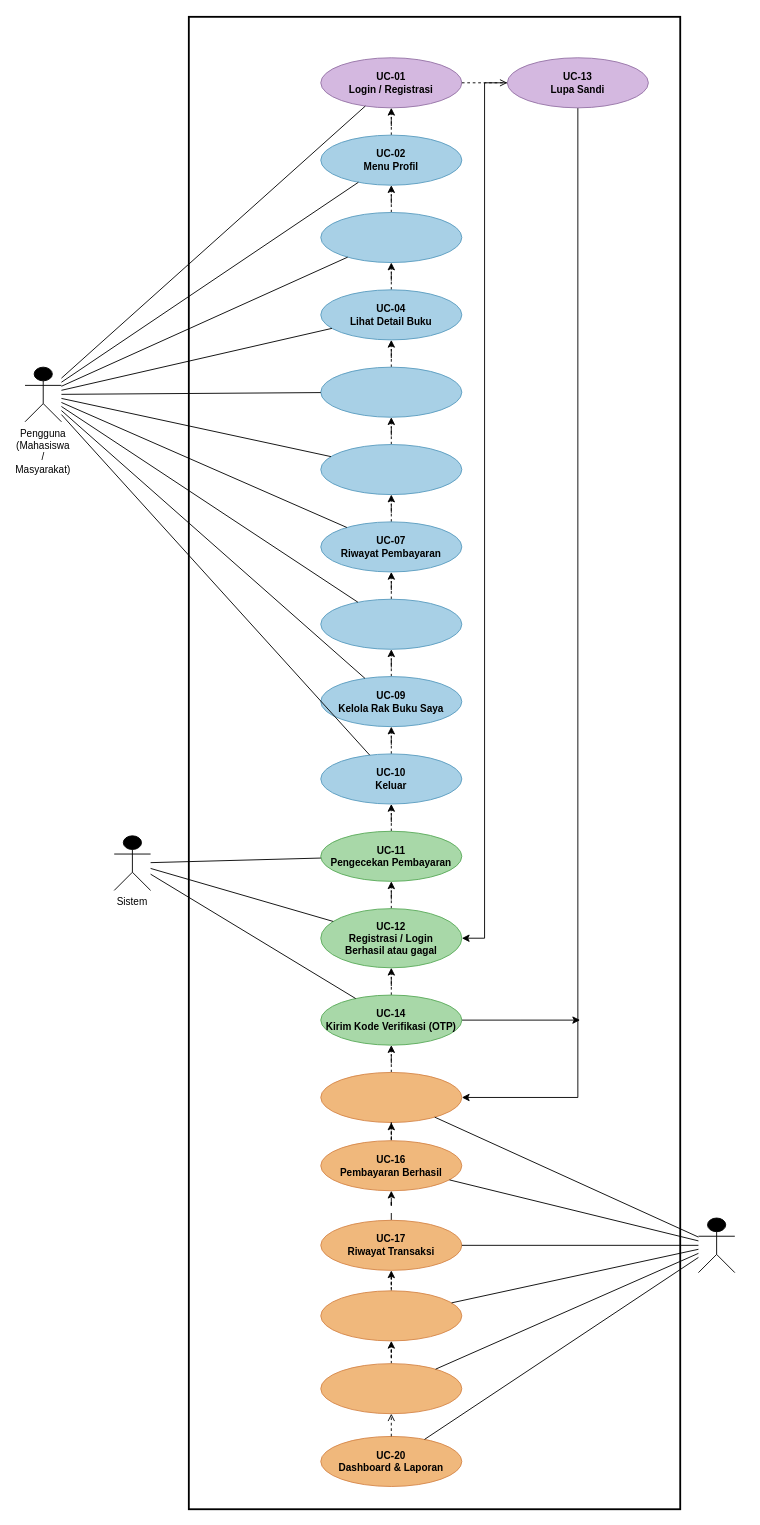
The diagram is 760 pixels wide and 1525 high, and some of its shapes have lost their labels. Each missing label, with the centre of its shape:
"Admin / Pustakawan" goes at [716,1245].
"UC-03 Cari Katalog Buku" goes at [391,237].
"UC-05 Pinjam Buku Digital" goes at [391,391].
"UC-06 Pembayaran" goes at [391,469].
"UC-08 Baca Buku (Reader)" goes at [391,623].
"UC-15 Pengecekan Data" goes at [391,1097].
"UC-18 Notifikasi Jatuh Tempo" goes at [391,1315].
"UC-19 Kelola Koleksi" goes at [391,1388].
